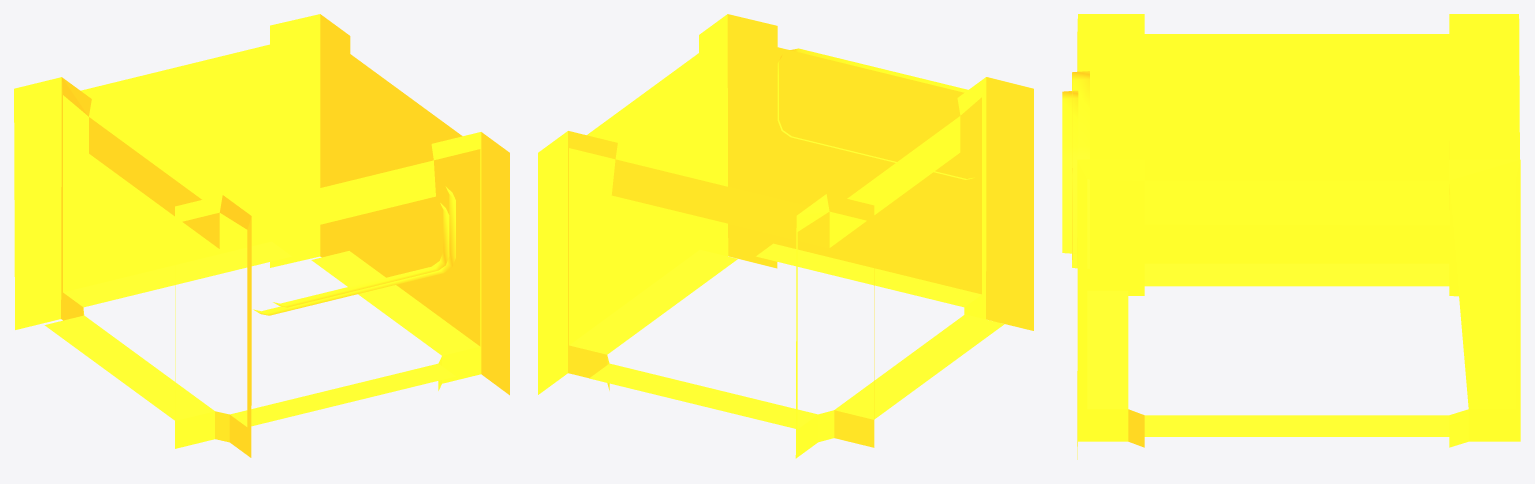
File: planterBoxToon.glb
The picture shows the model from 3 angles, left to right: view 1: azimuth 30°, elevation 25°; view 2: azimuth 150°, elevation 25°; view 3: azimuth 270°, elevation 25°; orthographic projection. The views are drawn at different scales.
Visible parts, largest first — view 1: Toon; view 2: Toon; view 3: Toon.
Part boxes in pixels (<box>): Toon: <box>14,14,509,457</box>; Toon: <box>538,14,1033,458</box>; Toon: <box>1062,14,1520,459</box>.
Bounding box in the file's own units: 1.76 × 1.33 × 1.96.
